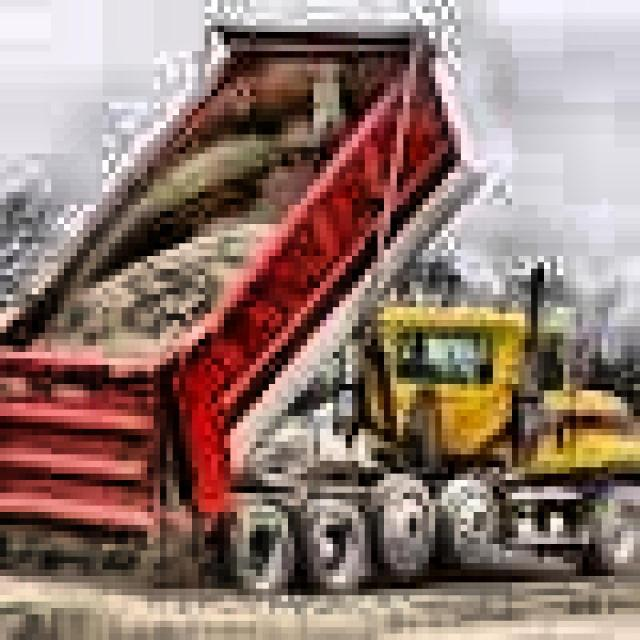dump_truck: (1, 19, 640, 584)
